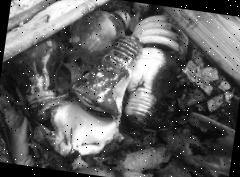lightbulb: (0, 0, 193, 177), (66, 26, 144, 120), (121, 42, 180, 130), (44, 96, 120, 162), (66, 1, 133, 69)
